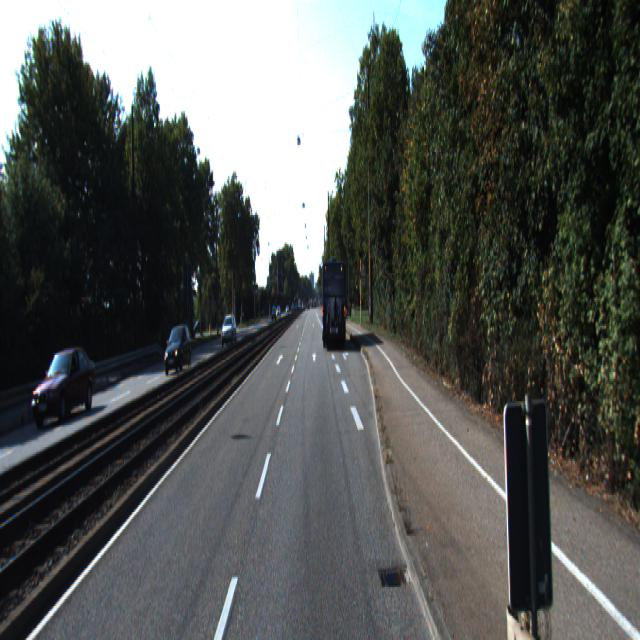Car: (32, 346, 100, 428), (322, 259, 347, 350), (164, 326, 192, 377), (220, 314, 238, 348)
